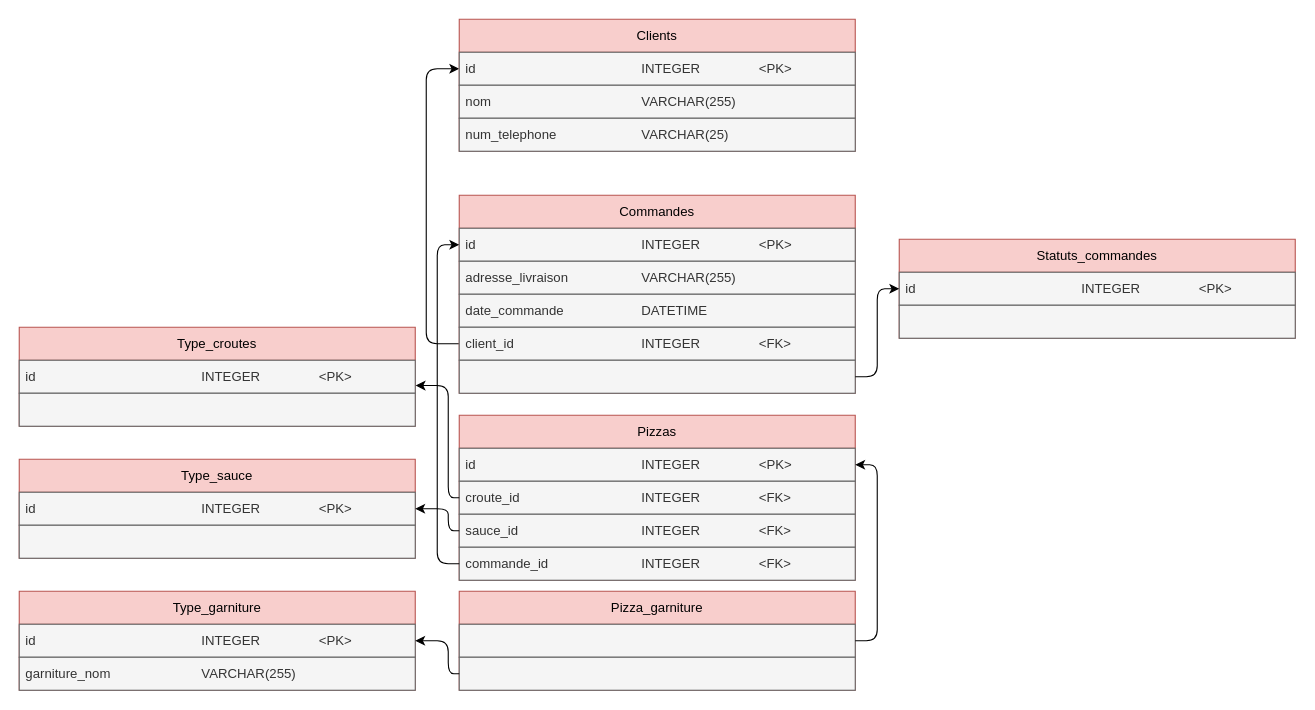
Image size: 1315x710. Some labels were removed from this diagram. Here are the shapes that lost their labels. From the top down, the centre of each, then its label:
At (x=1096, y=321): "statut_nom VARCHAR(255)".
At (x=656, y=376): "statut_id INTEGER <FK>".
At (x=216, y=409): "croute_nom VARCHAR(255)".
At (x=216, y=541): "sauce_nom VARCHAR(255)".
At (x=656, y=640): "pizza_id INTEGER <PK,FK>".
At (x=656, y=673): "garniture_id INTEGER <PK,FK>".
